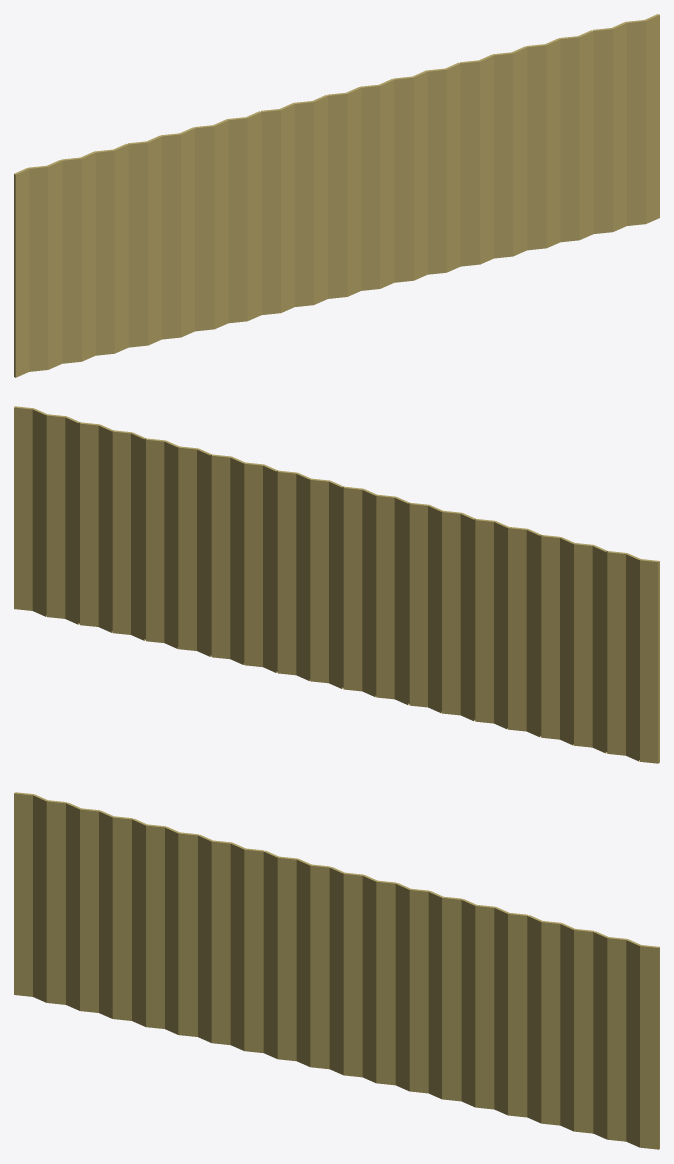
Rendered from Perde_Coklu_Obje.fbx.
The picture shows the model from 3 angles, top to bottom: view 1: azimuth 30°, elevation 25°; view 2: azimuth 150°, elevation 25°; view 3: azimuth 330°, elevation 25°; orthographic projection.
Visible parts, largest first — view 1: Plane.012, Plane.032, Plane.004, Plane.006, Plane.008, Plane.020, Plane.026, Plane.036, Plane.010, Plane.014, Plane.016, Plane.024 (+27 smaller); view 2: Plane.003, Plane.021, Plane.039, Plane.013, Plane.017, Plane.001, Plane.005, Plane.007, Plane.011, Plane.015, Plane.019, Plane.031 (+27 smaller); view 3: Plane.021, Plane.001, Plane.003, Plane.013, Plane.017, Plane.033, Plane.037, Plane.005, Plane.011, Plane.015, Plane.029, Plane.007 (+27 smaller).
Part boxes in pixels (left/top/right/bottom): Plane.012: left=460, top=60, right=480, bottom=266; Plane.032: left=128, top=141, right=148, bottom=347; Plane.004: left=593, top=28, right=613, bottom=233; Plane.006: left=559, top=36, right=579, bottom=242; Plane.008: left=526, top=44, right=546, bottom=250; Plane.020: left=327, top=92, right=347, bottom=298; Plane.026: left=227, top=117, right=247, bottom=323; Plane.036: left=61, top=157, right=81, bottom=363; Plane.010: left=493, top=52, right=513, bottom=258; Plane.014: left=426, top=68, right=446, bottom=274; Plane.016: left=393, top=76, right=413, bottom=282; Plane.024: left=261, top=109, right=280, bottom=314; Plane.003: left=46, top=414, right=65, bottom=618; Plane.021: left=343, top=486, right=363, bottom=691; Plane.039: left=640, top=559, right=659, bottom=763; Plane.013: left=211, top=454, right=231, bottom=659; Plane.017: left=277, top=470, right=297, bottom=675; Plane.001: left=14, top=406, right=33, bottom=610; Plane.005: left=80, top=422, right=99, bottom=626; Plane.007: left=112, top=430, right=131, bottom=634; Plane.011: left=178, top=446, right=197, bottom=650; Plane.015: left=244, top=462, right=263, bottom=667; Plane.019: left=310, top=478, right=329, bottom=683; Plane.031: left=508, top=527, right=527, bottom=731; Plane.021: left=310, top=864, right=330, bottom=1069; Plane.001: left=640, top=945, right=659, bottom=1149; Plane.003: left=607, top=937, right=627, bottom=1141; Plane.013: left=442, top=896, right=462, bottom=1101; Plane.017: left=376, top=880, right=396, bottom=1085; Plane.033: left=112, top=816, right=132, bottom=1020; Plane.037: left=46, top=800, right=66, bottom=1004; Plane.005: left=574, top=929, right=593, bottom=1133; Plane.011: left=475, top=905, right=495, bottom=1109; Plane.015: left=409, top=888, right=429, bottom=1093; Plane.029: left=178, top=832, right=198, bottom=1036; Plane.007: left=541, top=921, right=560, bottom=1125.
Size of the model in its own units: 259 by 77.65 by 2.95.
